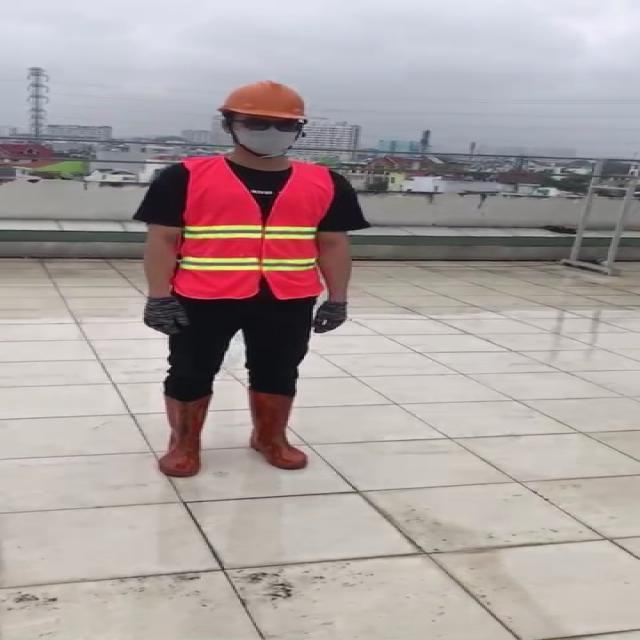gloves: (144, 296, 189, 336), (311, 301, 347, 334)
goggles: (224, 117, 306, 133)
helmet: (214, 79, 315, 123)
safety_vest: (174, 155, 338, 301)
